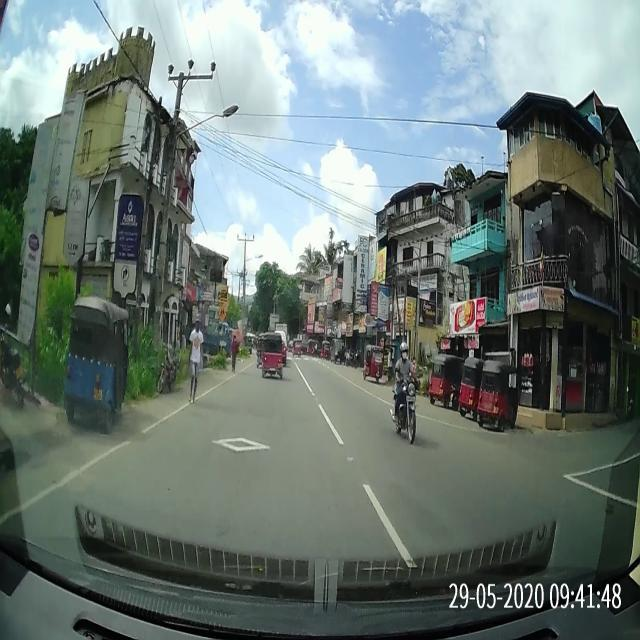diamond: (100, 412, 376, 493)
